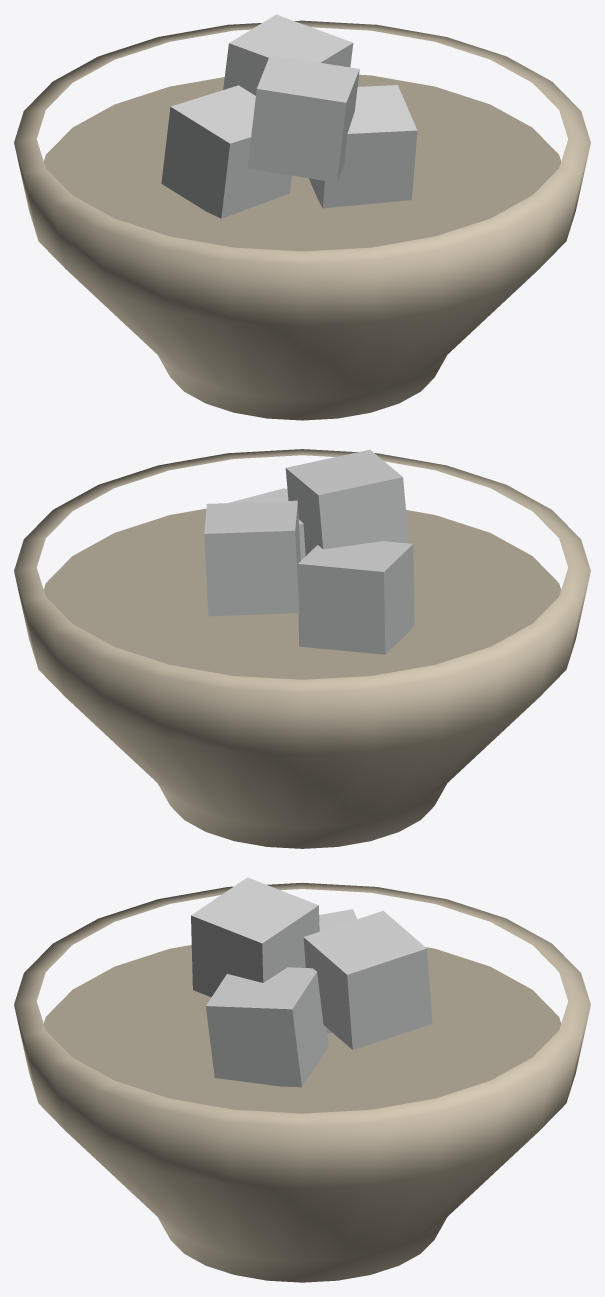
Rendered from sugar_bowl.glb.
The picture shows the model from 3 angles, top to bottom: view 1: azimuth 30°, elevation 25°; view 2: azimuth 150°, elevation 25°; view 3: azimuth 270°, elevation 25°; orthographic projection.
Visible parts, largest first — view 1: body; view 2: body; view 3: body.
Part boxes in pixels (x1,y1,x2,y2): body: (14, 14, 590, 420); body: (14, 449, 590, 848); body: (14, 877, 590, 1282).
Bounding box in the file's own units: 7.6 × 4.53 × 7.6.
